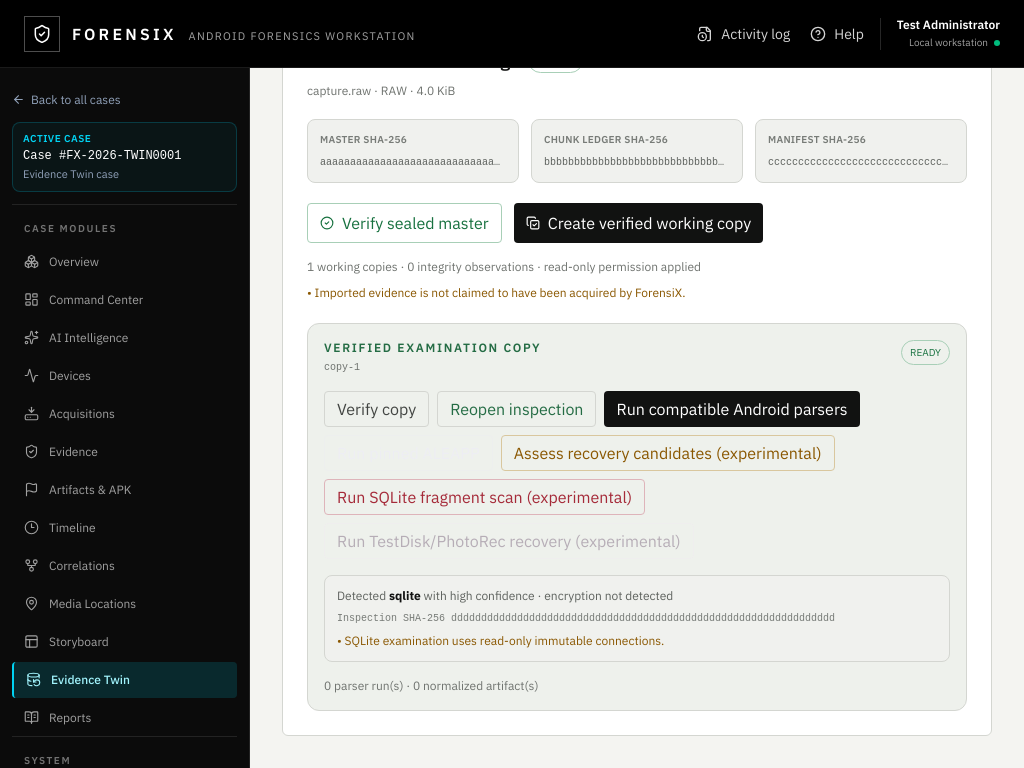
Test: Evidence Twin workspace › shows sealed source integrity and working-copy controls
(page scrolled)
Expected: the heading "Controlled Android image" is shown, [307, 46, 520, 74]
Expected: the text "Master SHA-256" is shown, [320, 132, 407, 146]
Click the button "Assess recovery candidates (experimental)" at coordinates (668, 452), box [501, 434, 835, 470]
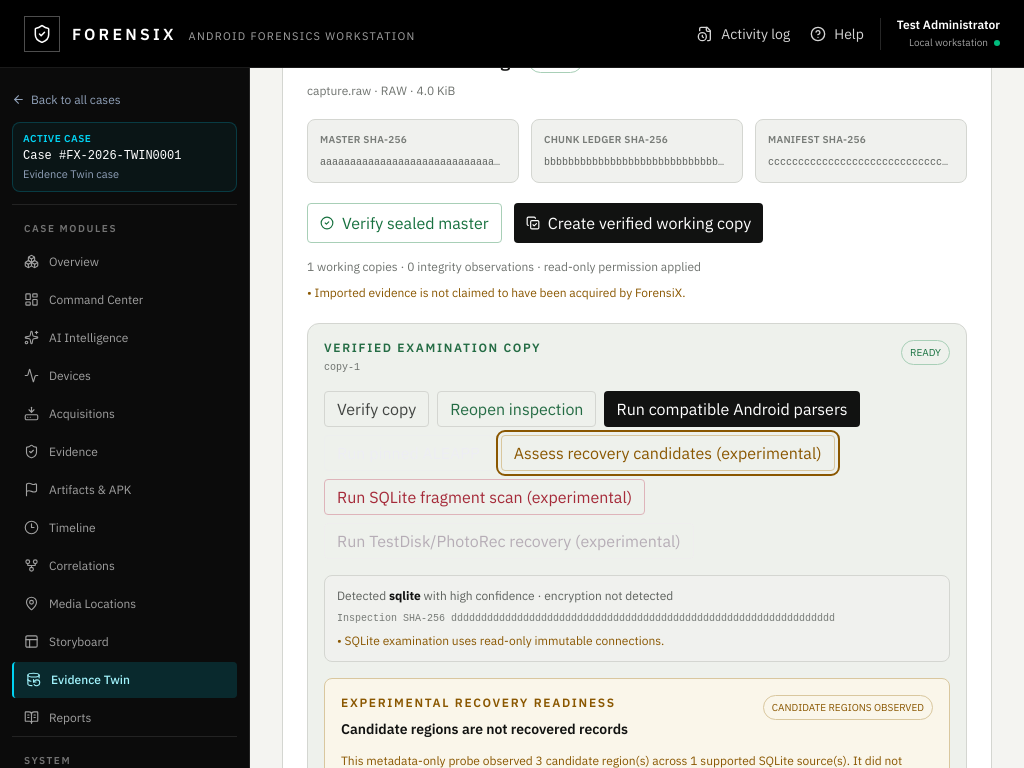
Expected: the text "not claimed to have been acquired by ForensiX" is shown, [315, 284, 685, 300]
Result: the text "Candidate regions are not recovered records" is shown at [341, 719, 628, 739]
